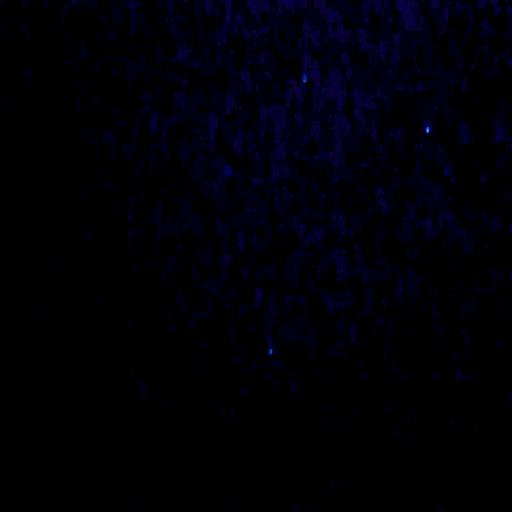object-detection-project: (302, 74, 307, 82), (269, 347, 273, 355), (426, 127, 429, 132)
